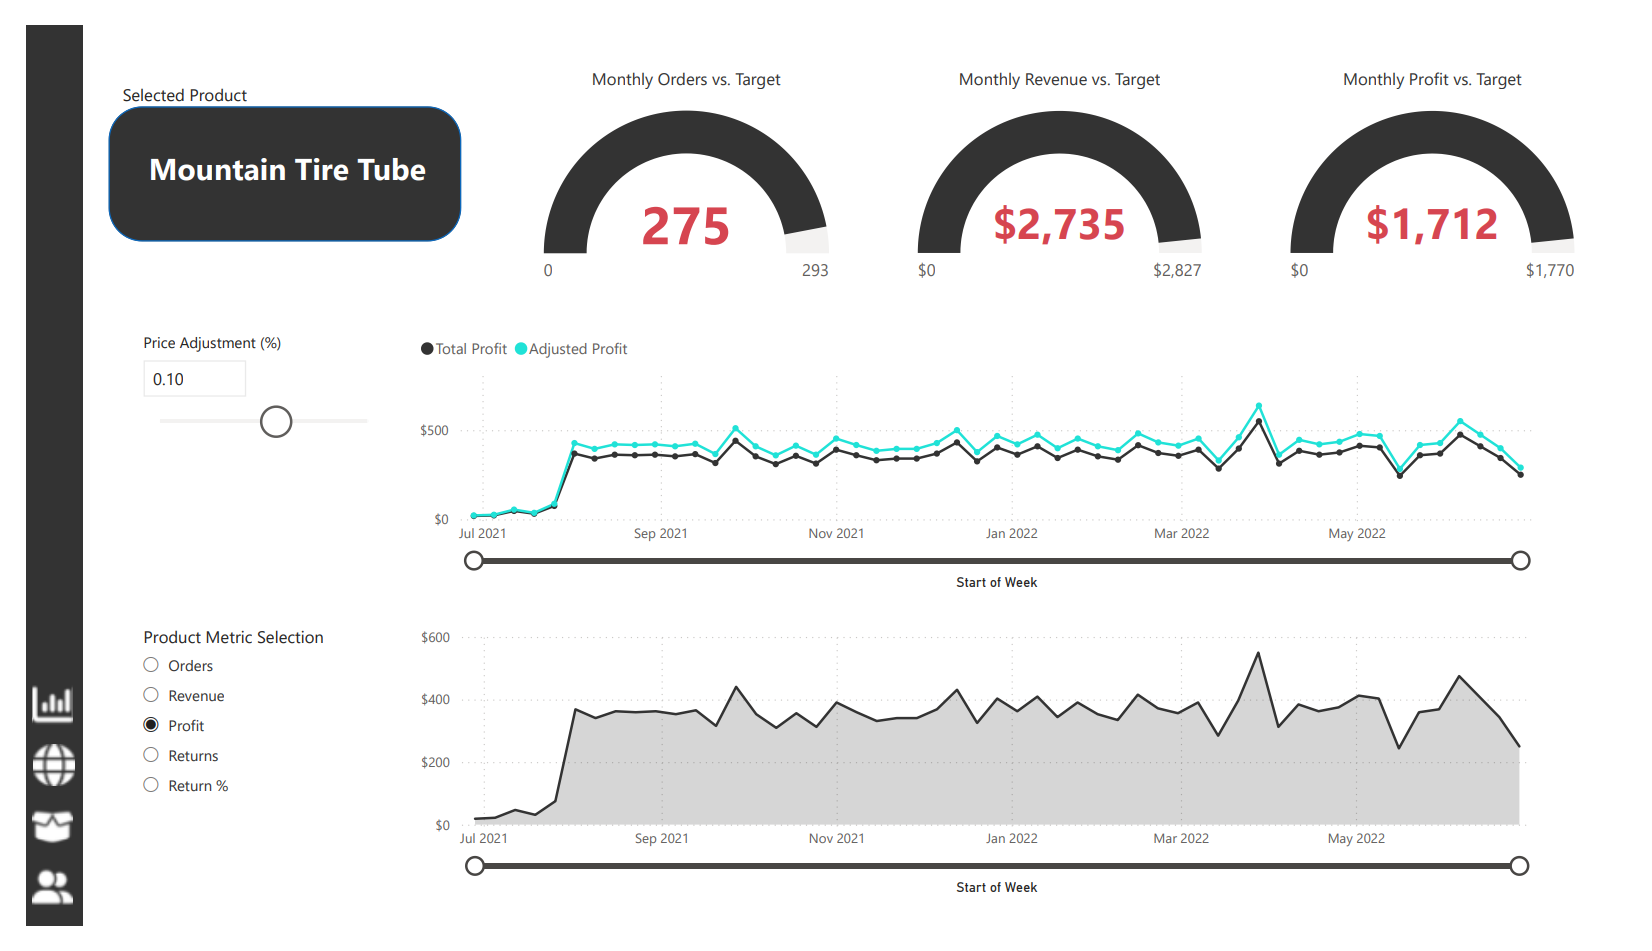

Layout of this report page (visuals, bound fields, positions):
{"tool":"powerbi","page":{"name":"Product Detail","canvas":[1280,720],"ordinal":2},"visuals":[{"type":"shape","box":[0,0,45.3,719.8],"z":0},{"type":"shape","box":[66.2,65,282.3,108],"z":0,"group":"g4"},{"type":"actionButton","box":[0.9,523,45.7,40.3],"z":0,"group":"g3"},{"type":"gauge","title":"Monthly Orders vs. Target","fields":{"Y":["Measure Table.Total Orders"],"MaxValue":["Measure Table.Order Target"]},"box":[409.4,33.7,237.2,191.8],"z":1000},{"type":"card","fields":{"Values":["Min(Product Lookup.ProductName)"]},"box":[69.8,67.2,278.8,96.4],"z":1000,"group":"g4"},{"type":"actionButton","box":[1.8,571.4,45.7,40.3],"z":1000,"group":"g3"},{"type":"gauge","title":"Monthly Revenue vs. Target","fields":{"Y":["Measure Table.Total Revenue"],"MaxValue":["Measure Table.Revenue Target"]},"box":[707.5,33.7,237.2,191.8],"z":2000},{"type":"actionButton","box":[0.9,620.6,45.7,40.3],"z":2000,"group":"g3"},{"type":"gauge","title":"Monthly Profit vs. Target","fields":{"Y":["Measure Table.Total Profit"],"MaxValue":["Measure Table.Profit Target"]},"box":[1005.6,33.7,237.2,191.8],"z":3000},{"type":"actionButton","box":[0.9,669,45.7,40.3],"z":3000,"group":"g3"},{"type":"lineChart","title":"Profit Trending","fields":{"Category":["Calendar Lookup.Date Hierarchy.Start of Year","Calendar Lookup.Date Hierarchy.Start of Month","Calendar Lookup.Date Hierarchy.Start of Week","Calendar Lookup.Date Hierarchy.Date"],"Y":["Measure Table.Total Profit","Measure Table.Adjusted Profit"]},"box":[310.4,238.9,913.1,216.7],"z":4000},{"type":"textbox","box":[45.3,41.8,163.8,46.5],"z":4004,"group":"g2"},{"type":"areaChart","title":"Returns Trending","fields":{"Y":["Measure Table.Total Revenue"],"Category":["Calendar Lookup.Date Hierarchy.Start of Year","Calendar Lookup.Date Hierarchy.Start of Month","Calendar Lookup.Date Hierarchy.Start of Week","Calendar Lookup.Date Hierarchy.Date"]},"box":[310.7,474.6,912.5,225.7],"z":5000},{"type":"group","id":"g1","title":"Group 3","box":[45.3,41.8,303.2,131.3],"z":6000},{"type":"group","id":"g2","title":"Group 1","box":[45.3,41.8,163.8,46.5],"z":7000,"group":"g1"},{"type":"group","id":"g3","title":"Navigation Buttons","box":[0.9,523,46.6,186.3],"z":7000},{"type":"slicer","fields":{"Values":["Price Adjustment (%).Price Adjustment (%)"]},"box":[80.6,240,214,107.5],"z":8000},{"type":"group","id":"g4","title":"Group 2","box":[66.2,65,282.3,108],"z":8002,"group":"g1"},{"type":"slicer","fields":{"Values":["Product Metric Selection.Product Metric Selection"]},"box":[80.6,474.6,214,153.1],"z":9000}]}

Visuals, with their boxes on the page's 1280x720 design canvas (x1, y1, x2, y2). These are canvas units, not pixel positions in the 1652x951 screenshot, which may show the page scaled, cropped or inside an application window:
shape: <box>0,0,45,720</box>
shape: <box>66,65,348,173</box>
actionButton: <box>1,523,47,563</box>
"Monthly Orders vs. Target" gauge: <box>409,34,647,226</box>
card - Min(Product Lookup.ProductName): <box>70,67,349,164</box>
actionButton: <box>2,571,48,612</box>
"Monthly Revenue vs. Target" gauge: <box>708,34,945,226</box>
actionButton: <box>1,621,47,661</box>
"Monthly Profit vs. Target" gauge: <box>1006,34,1243,226</box>
actionButton: <box>1,669,47,709</box>
"Profit Trending" lineChart: <box>310,239,1224,456</box>
textbox: <box>45,42,209,88</box>
"Returns Trending" areaChart: <box>311,475,1223,700</box>
"Group 3" group: <box>45,42,348,173</box>
"Group 1" group: <box>45,42,209,88</box>
"Navigation Buttons" group: <box>1,523,48,709</box>
slicer - Price Adjustment (%).Price Adjustment (%): <box>81,240,295,348</box>
"Group 2" group: <box>66,65,348,173</box>
slicer - Product Metric Selection.Product Metric Selection: <box>81,475,295,628</box>
